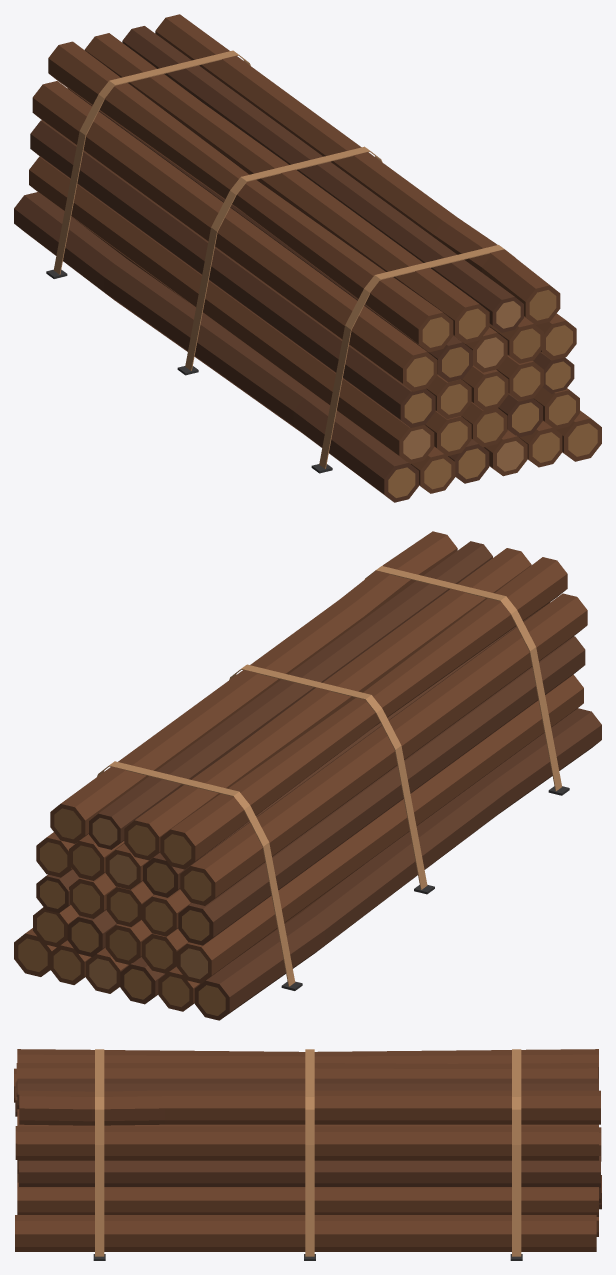
The model's file is SM_Trains_TrainPart_03.glb.
3 views of the same model, one above another, from view 1: azimuth 30°, elevation 25°; view 2: azimuth 150°, elevation 25°; view 3: azimuth 270°, elevation 25° (orthographic). The views are drawn at different scales.
Parts seen in each view (by area): view 1: SM_Trains_TrainPart_03; view 2: SM_Trains_TrainPart_03; view 3: SM_Trains_TrainPart_03.
Boxes of the visible parts, <box> form: SM_Trains_TrainPart_03: <box>14,14,601,502</box>; SM_Trains_TrainPart_03: <box>14,531,601,1020</box>; SM_Trains_TrainPart_03: <box>14,1049,601,1260</box>.
Size of the model in its own units: 3.26 by 2.26 by 8.53.
Materials: 1 (1 with a texture image).
